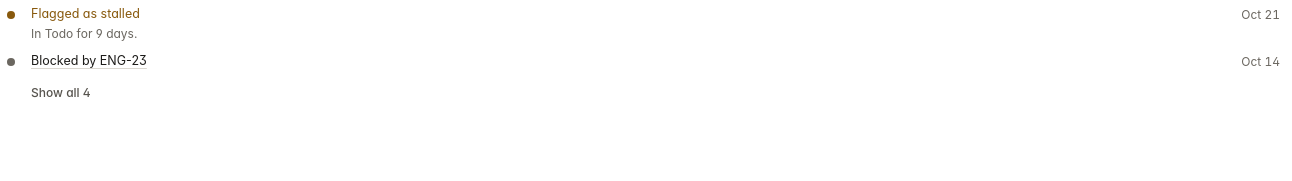
Test: TaskActivityList › limit hides the rest behind Show all N
Expected: the number of list items is 2, [0, 0, 1280, 47]; [0, 47, 1280, 76]
Click the button "Show all 4". click: (61, 93)
box: [23, 80, 99, 106]
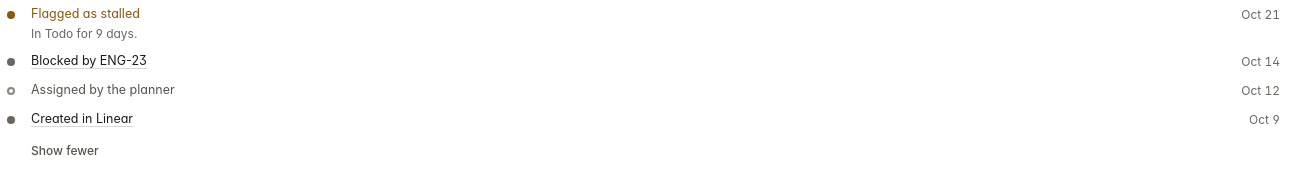
Now the number of list items is 4, box [0, 0, 1280, 47]; [0, 47, 1280, 76]; [0, 76, 1280, 105]; [0, 105, 1280, 134]
Now the button named "Show all 4" is expanded, box [23, 138, 107, 164]
Now the button named "Show all 4" reads "Show fewer", box [23, 138, 107, 164]
